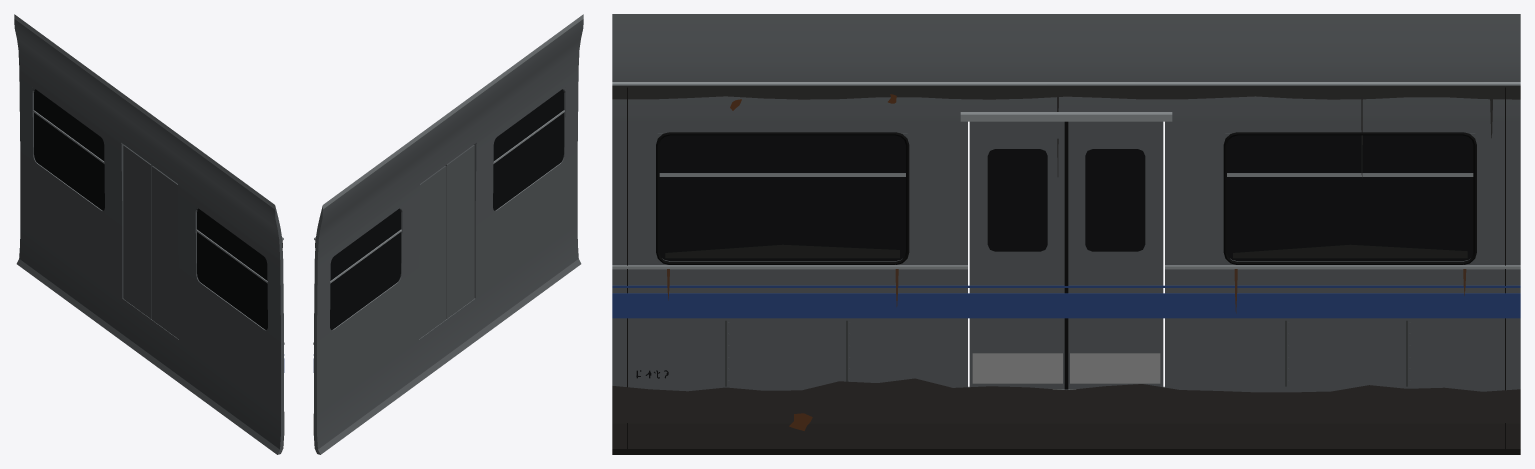
File: metro_dormant_a.glb
The picture shows the model from 3 angles, left to right: view 1: azimuth 30°, elevation 25°; view 2: azimuth 150°, elevation 25°; view 3: azimuth 270°, elevation 25°; orthographic projection. The views are drawn at different scales.
Visible parts, largest first — view 1: oben, schuerze, unten-3.00, unten0.65, glas1.1, glas-2.7, tuer1, tuer0, pfeiler0.65, pfeiler-1.05, pfeiler-3.00, pfeiler2.70 (+2 smaller); view 2: oben, schuerze, unten0.65, unten-3.00, glas-2.7, glas1.1, tuer0, tuer1, pfeiler-1.05, pfeiler0.65, pfeiler2.70, pfeiler-3.00 (+2 smaller); view 3: oben, bremsstaub, unten0.65, unten-3.00, glas1.1, glas-2.7, streifen, tuer0, tuer1, ablaufschmutz, pfeiler-1.05, pfeiler0.65 (+19 smaller).
Boxes of the visible parts, x1,y1,x2,y2 form: oben: (14, 14, 282, 258); schuerze: (16, 224, 283, 454); unten-3.00: (179, 267, 283, 414); unten0.65: (20, 151, 123, 298); glas1.1: (34, 89, 104, 210); glas-2.7: (197, 208, 267, 329); tuer1: (123, 145, 151, 318); tuer0: (151, 165, 178, 339); pfeiler0.65: (104, 140, 123, 225); pfeiler-1.05: (178, 193, 196, 279); pfeiler-3.00: (267, 259, 283, 341); pfeiler2.70: (19, 77, 33, 160); oben: (315, 14, 583, 258); schuerze: (314, 224, 581, 454); unten0.65: (314, 267, 418, 414); unten-3.00: (474, 151, 577, 298); glas-2.7: (493, 89, 563, 210); glas1.1: (330, 208, 400, 329); tuer0: (446, 145, 474, 318); tuer1: (419, 165, 446, 339); pfeiler-1.05: (474, 140, 493, 225); pfeiler0.65: (401, 193, 419, 279); pfeiler2.70: (314, 259, 330, 341); pfeiler-3.00: (564, 77, 578, 160); oben: (612, 14, 1520, 116); bremsstaub: (612, 378, 1520, 454); unten0.65: (1165, 261, 1520, 389); unten-3.00: (612, 261, 967, 389); glas1.1: (1227, 135, 1473, 261); glas-2.7: (659, 135, 905, 261); streifen: (612, 293, 1520, 318); tuer0: (969, 121, 1064, 388); tuer1: (1068, 121, 1163, 388); ablaufschmutz: (612, 86, 1520, 177); pfeiler-1.05: (907, 133, 967, 262); pfeiler0.65: (1165, 133, 1225, 262).
Size of the model in its own units: 0.1591 by 3.18 by 6.
